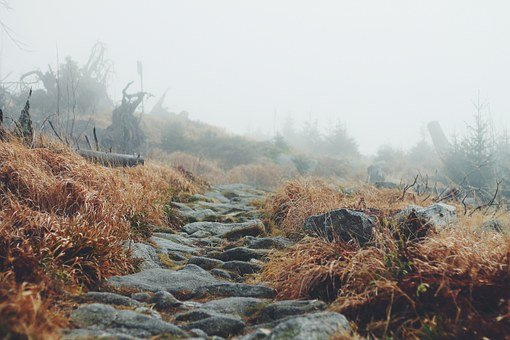forest: (15, 75, 510, 334)
